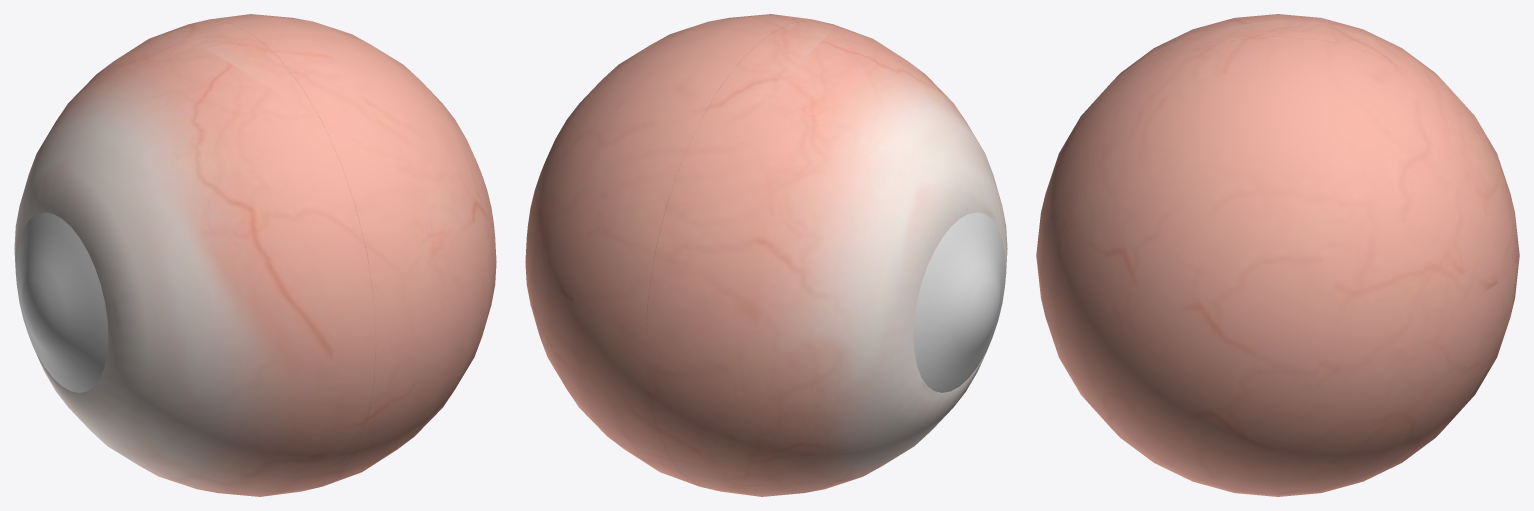
Rendered from eyeCOLORED.glb.
The picture shows the model from 3 angles, left to right: view 1: azimuth 30°, elevation 25°; view 2: azimuth 150°, elevation 25°; view 3: azimuth 270°, elevation 25°; orthographic projection.
Parts seen in each view (by area): view 1: eye, cornea; view 2: eye, cornea; view 3: eye.
Part boxes in pixels (x1=…): eye: x1=14, y1=14, x2=496, y2=496; cornea: x1=16, y1=212, x2=108, y2=392; eye: x1=525, y1=14, x2=1007, y2=496; cornea: x1=913, y1=212, x2=1005, y2=392; eye: x1=1036, y1=14, x2=1519, y2=496.
Bounding box in the file's own units: 2.06 × 2 × 2.
Materials: 2 (1 with a texture image).
